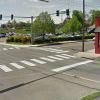Crosswalk: (2, 55, 66, 74)
